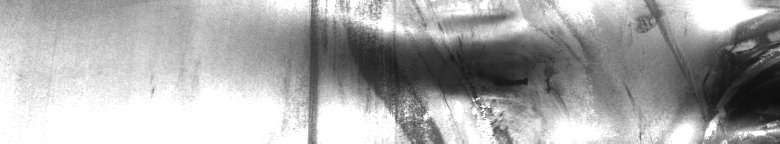ke: (304, 4, 558, 136)
